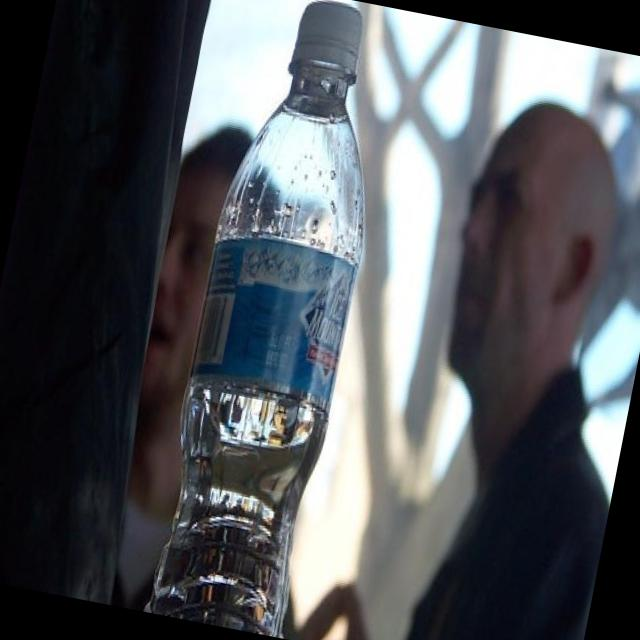plastic_bottle: (141, 0, 409, 640)
